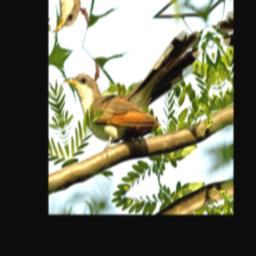Cuckoo: (62, 24, 215, 165)
